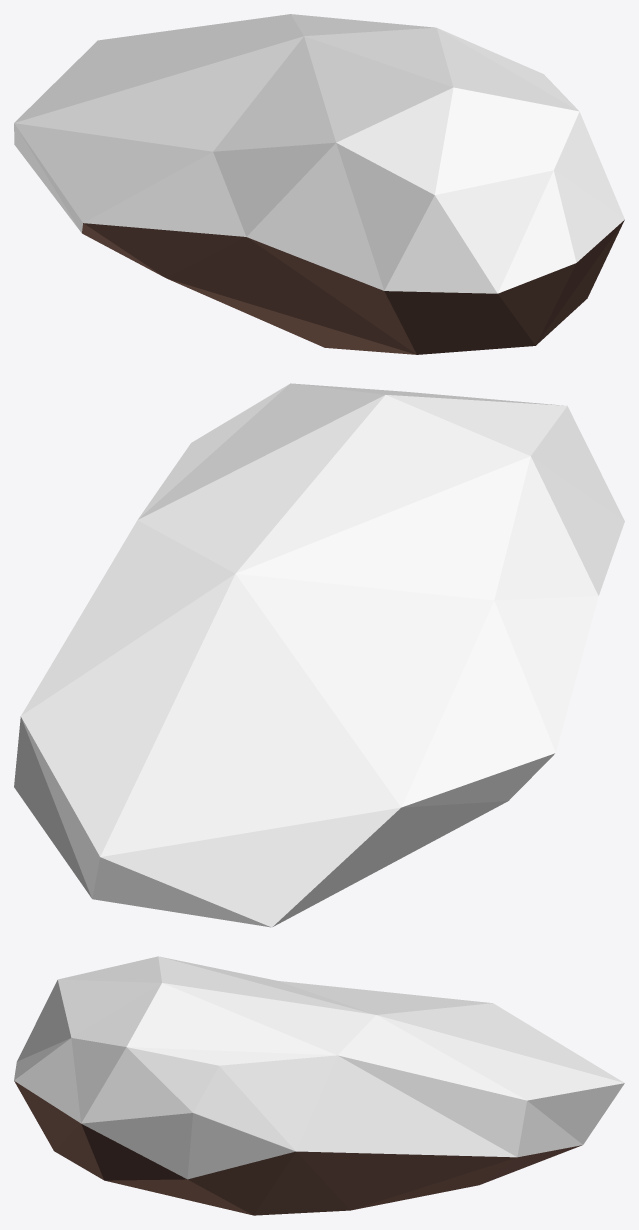
File: snow_stone_008.fbx
The picture shows the model from 3 angles, top to bottom: view 1: azimuth 30°, elevation 25°; view 2: azimuth 150°, elevation 25°; view 3: azimuth 270°, elevation 25°; orthographic projection. The views are drawn at different scales.
Parts seen in each view (by area): view 1: snow_stone_008; view 2: snow_stone_008; view 3: snow_stone_008.
Part boxes in pixels (left/top/right/bottom): snow_stone_008: left=14, top=14, right=624, bottom=354; snow_stone_008: left=14, top=383, right=624, bottom=927; snow_stone_008: left=14, top=956, right=624, bottom=1215.
Bounding box in the file's own units: 314 × 524 × 204.
